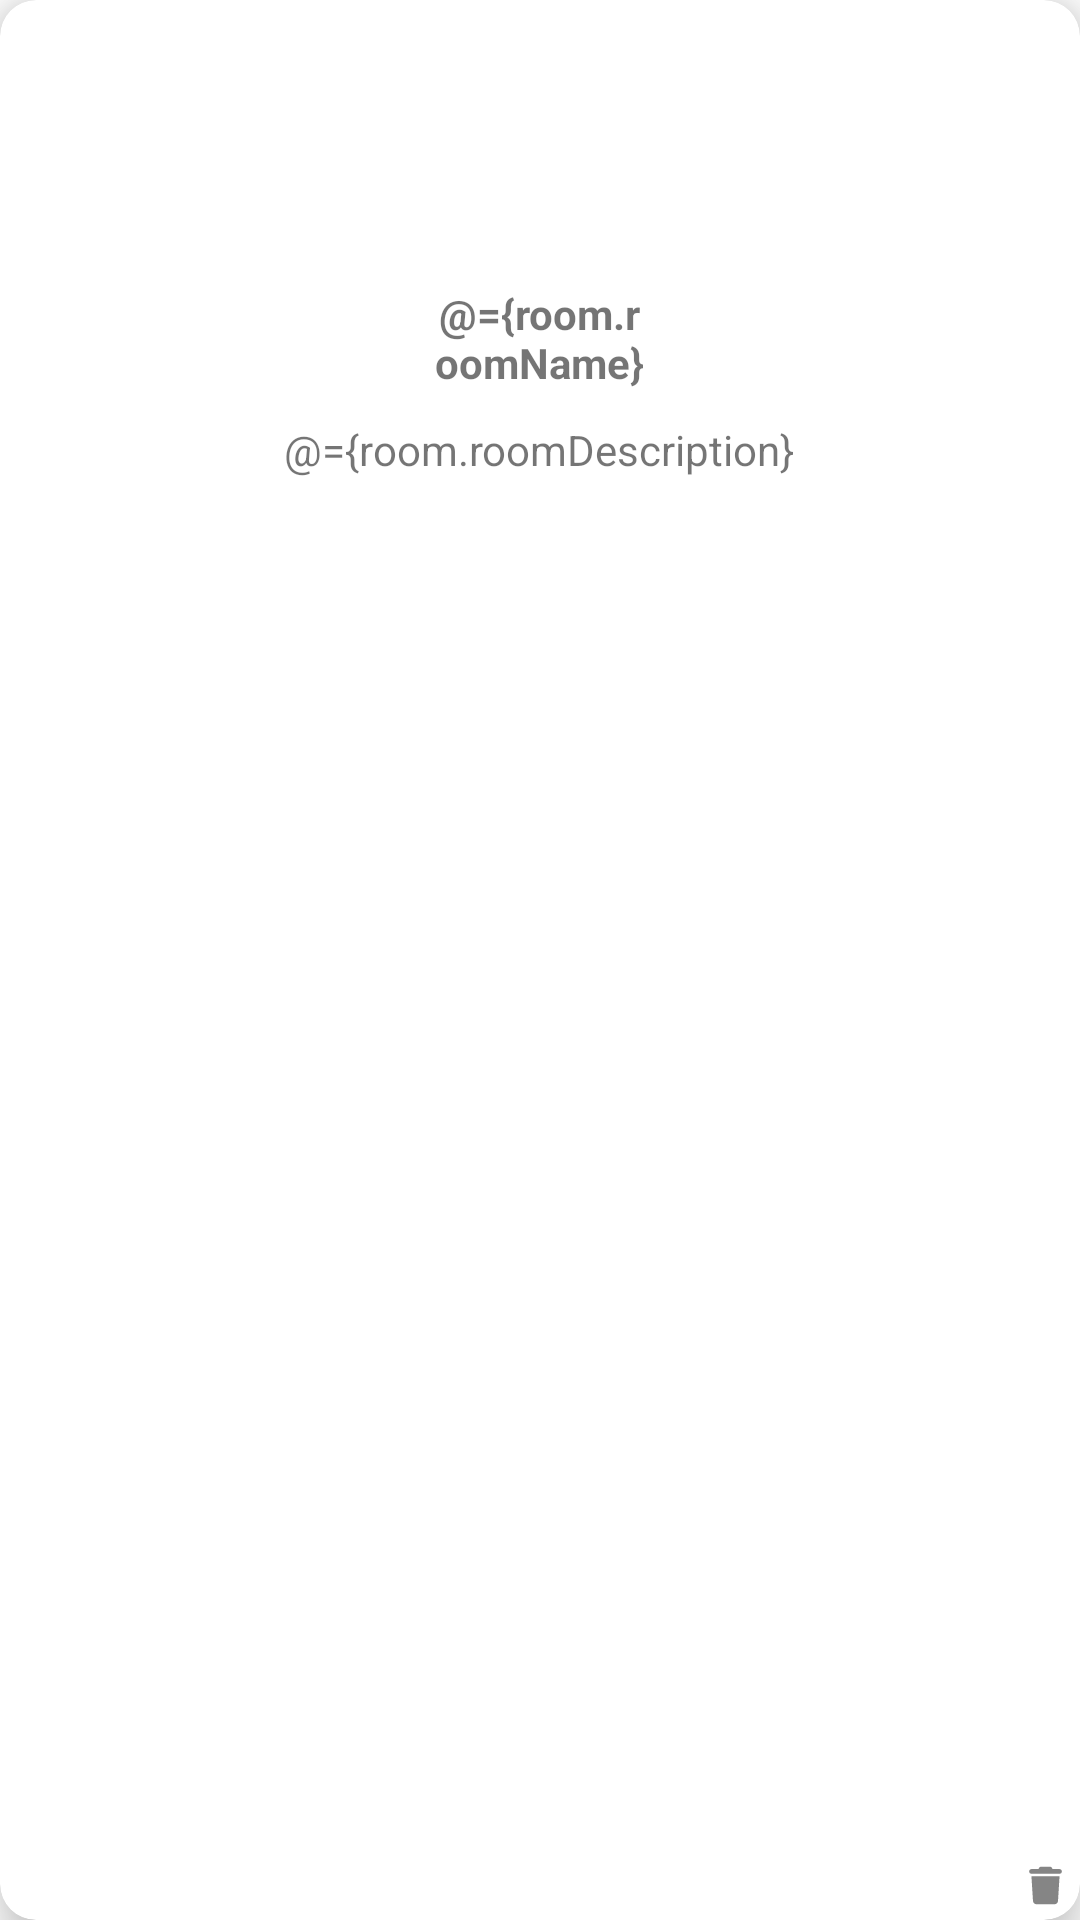

Named icons in this screenshot (1080 × 1920) and their bounding boxes, box=[x1, y1, x2, y2]:
delete: box=[1029, 1866, 1062, 1905]
